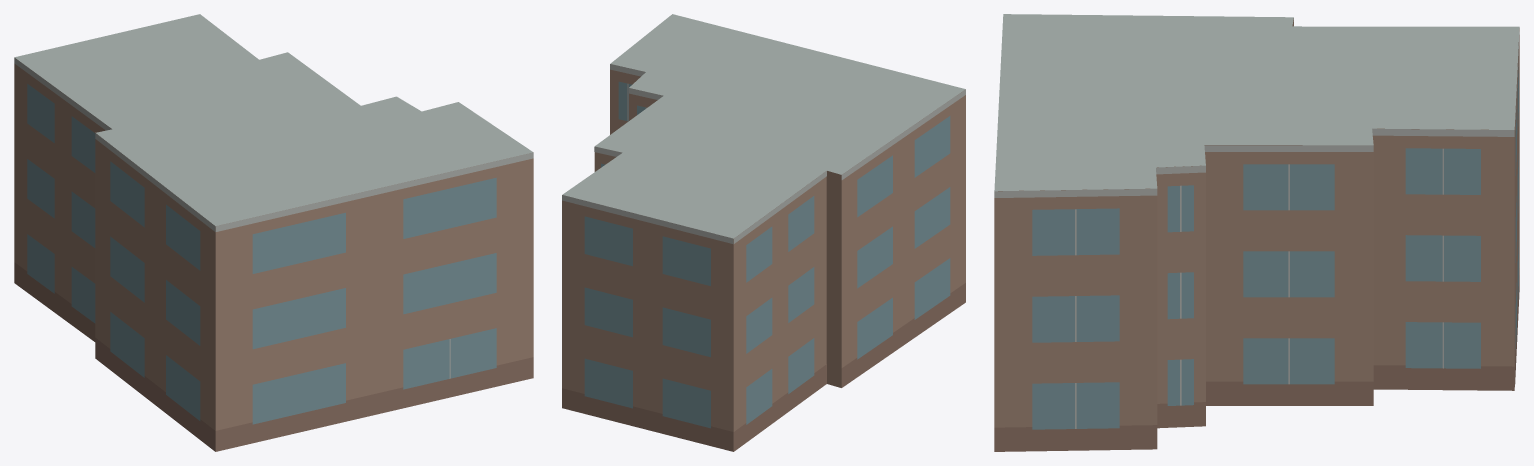
File: survey-upis-32651377.glb
3 views of the same model, side by side, from view 1: azimuth 30°, elevation 25°; view 2: azimuth 150°, elevation 25°; view 3: azimuth 270°, elevation 25° (orthographic). The views are drawn at different scales.
Visible parts, largest first — view 1: survey-upis-32651377.tmp; view 2: survey-upis-32651377.tmp; view 3: survey-upis-32651377.tmp.
Boxes of the visible parts, x1,y1,x2,y2 form: survey-upis-32651377.tmp: [14, 14, 533, 451]; survey-upis-32651377.tmp: [562, 14, 965, 451]; survey-upis-32651377.tmp: [994, 14, 1519, 451].
Size of the model in its own units: 13.34 by 9.15 by 16.72.
